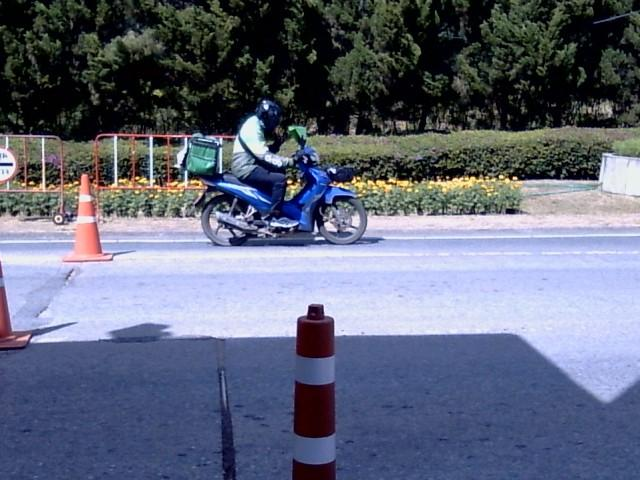helmet: (254, 97, 281, 129)
motor: (194, 126, 366, 245)
person: (232, 99, 294, 227)
